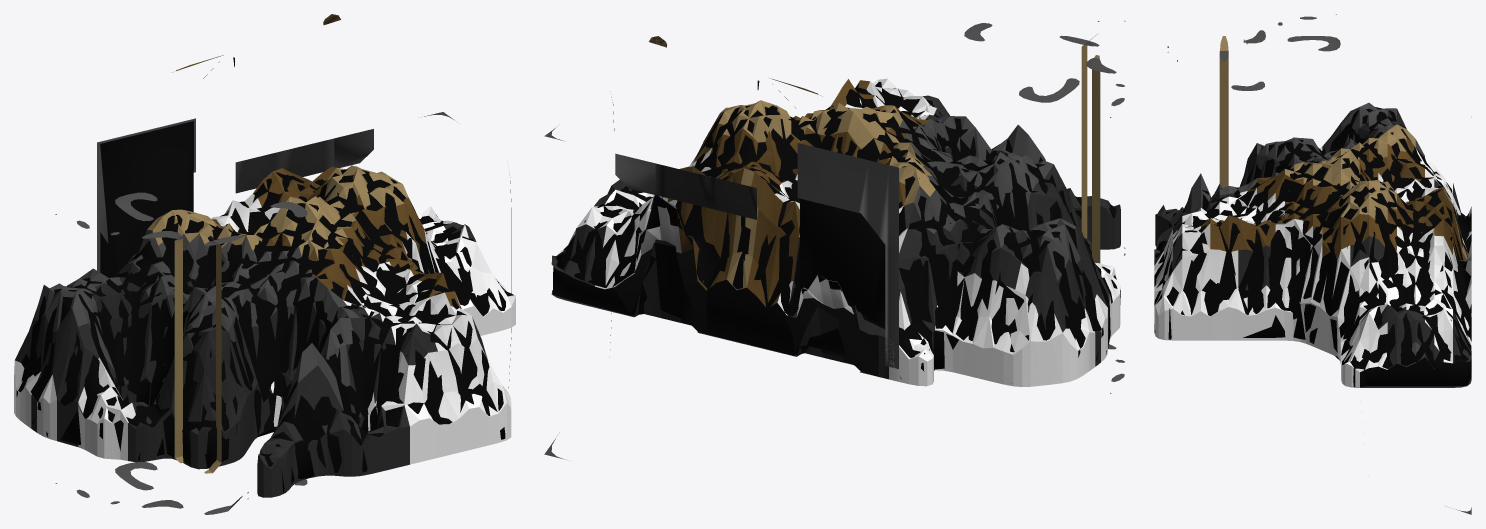
The model's file is newsh4-88-d.glb.
3 views of the same model, side by side, from view 1: azimuth 30°, elevation 25°; view 2: azimuth 150°, elevation 25°; view 3: azimuth 270°, elevation 25° (orthographic). The views are drawn at different scales.
Visible parts, largest first — view 1: newsh4-88, newsh4-88_outline; view 2: newsh4-88, newsh4-88_outline; view 3: newsh4-88, newsh4-88_outline.
Part boxes in pixels (bbox=[...]): newsh4-88: bbox=[14, 14, 515, 514]; newsh4-88_outline: bbox=[16, 17, 513, 492]; newsh4-88: bbox=[544, 20, 1125, 459]; newsh4-88_outline: bbox=[553, 82, 1120, 383]; newsh4-88: bbox=[1154, 14, 1471, 514]; newsh4-88_outline: bbox=[1154, 107, 1471, 387].
Bounding box in the file's own units: 2 × 1.75 × 1.42.
Materials: 13 (12 with a texture image).
